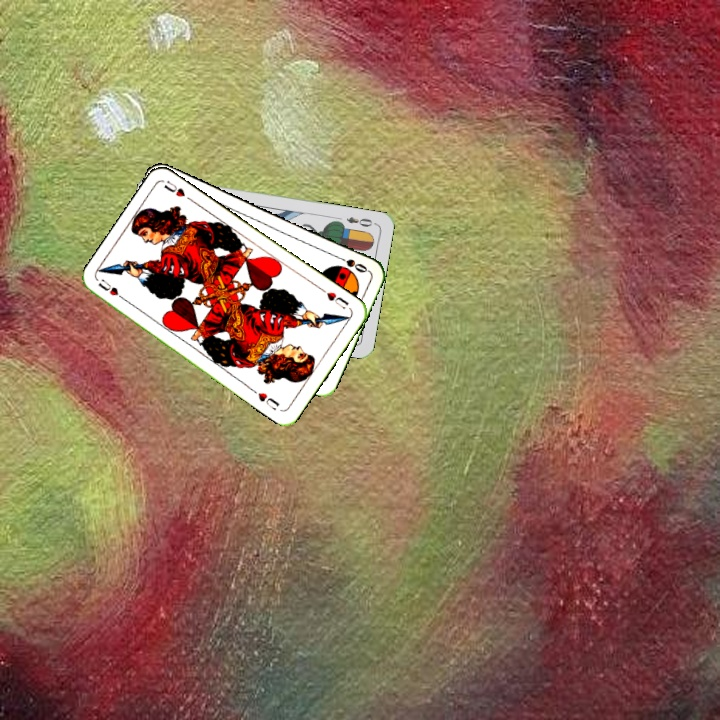EO: (342, 212, 375, 229)
HU: (94, 275, 130, 304), (317, 284, 352, 312)
SO: (332, 252, 371, 275)
